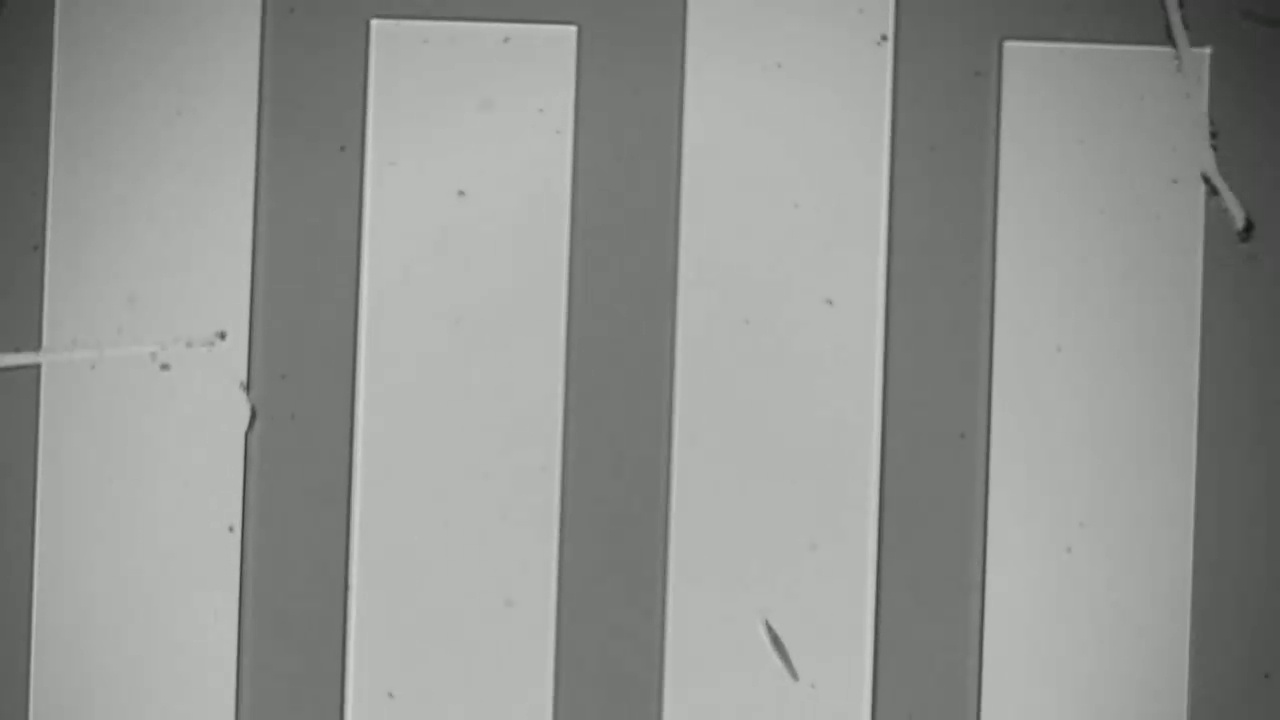Short_circuit: (1138, 1, 1217, 73), (0, 318, 68, 392)
